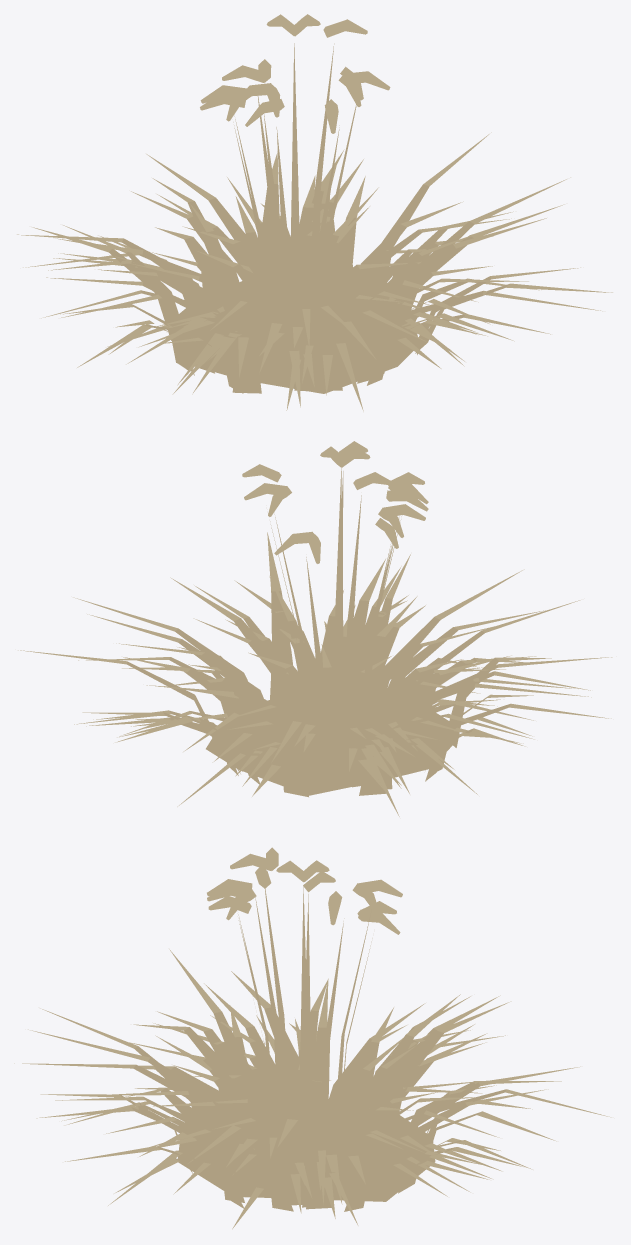
The model's file is Blender_BlueGrama_2.glb.
3 views of the same model, one above another, from view 1: azimuth 30°, elevation 25°; view 2: azimuth 150°, elevation 25°; view 3: azimuth 270°, elevation 25° (orthographic). The views are drawn at different scales.
Visible parts, largest first — view 1: Blender_BlueGrama_2; view 2: Blender_BlueGrama_2; view 3: Blender_BlueGrama_2.
Boxes of the visible parts, left/top/right/bottom form: Blender_BlueGrama_2: left=17, top=14, right=612, bottom=411; Blender_BlueGrama_2: left=18, top=441, right=612, bottom=816; Blender_BlueGrama_2: left=14, top=847, right=611, bottom=1229.
Size of the model in its own units: 0.5822 by 0.3082 by 0.5721.
